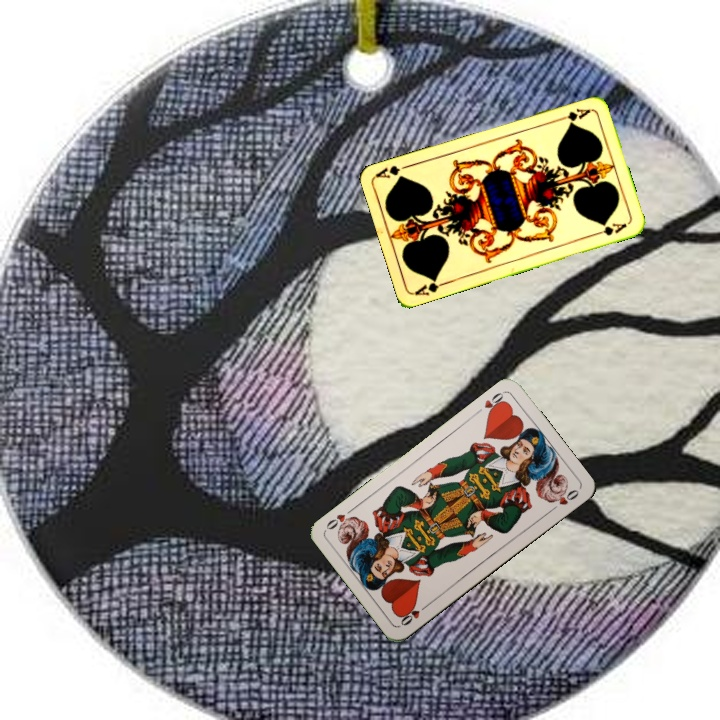GA: (411, 274, 450, 298), (554, 104, 594, 126)
HO: (472, 388, 508, 418), (396, 600, 431, 629)
